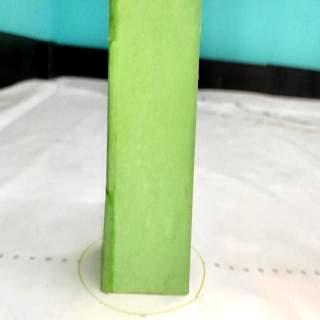greenbox: (100, 0, 202, 295)
